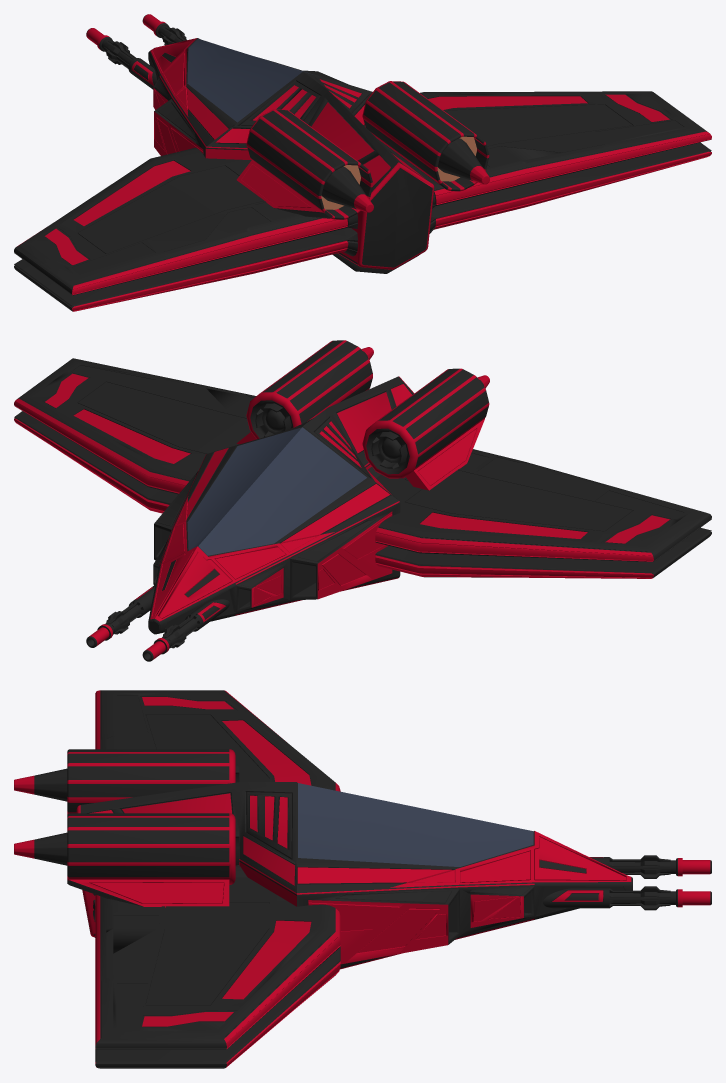
The model's file is SmallShip.fbx.
3 renders of one model, top to bottom at view 1: azimuth 30°, elevation 25°; view 2: azimuth 150°, elevation 25°; view 3: azimuth 270°, elevation 25°, orthographic. The views are drawn at different scales.
Visible parts, largest first — view 1: Small_Space_; view 2: Small_Space_; view 3: Small_Space_.
Boxes of the visible parts, box(x1,y1,x2,y2) form: Small_Space_: box(14, 14, 711, 311); Small_Space_: box(14, 340, 711, 661); Small_Space_: box(14, 690, 711, 1068).
Bounding box in the file's own units: 3479 × 733 × 2909.
